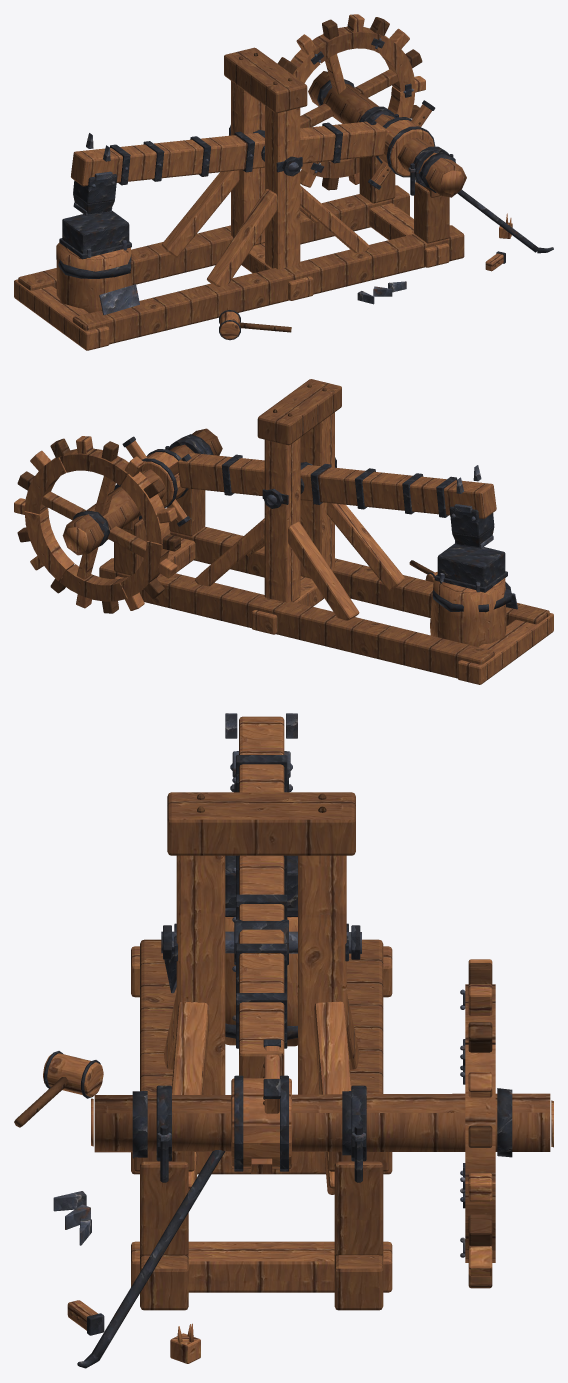
File: hw_jammed_hammer.glb
The picture shows the model from 3 angles, top to bottom: view 1: azimuth 30°, elevation 25°; view 2: azimuth 150°, elevation 25°; view 3: azimuth 270°, elevation 25°; orthographic projection. The views are drawn at different scales.
Parts seen in each view (by area): view 1: model; view 2: model; view 3: model.
Boxes of the visible parts, x1=… form: model: x1=14, y1=14, x2=553, y2=350; model: x1=14, y1=379, x2=553, y2=684; model: x1=14, y1=713, x2=553, y2=1368.
Bounding box in the file's own units: 3.07 × 1.34 × 1.78.
Materials: 6 (6 with a texture image).
